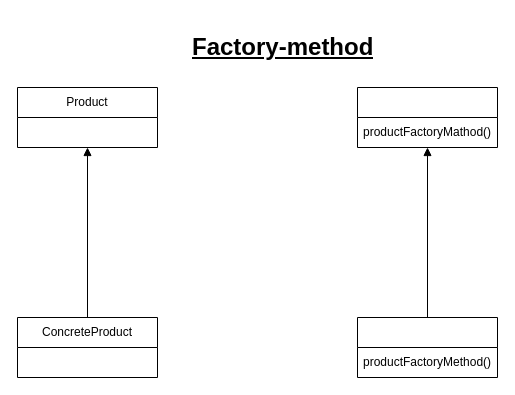
The diagram is 515 pixels wide and 395 high, and some of its shapes have lost their labels. The box of each missing label's shape, as (x1, y1, x2, y2) in pixels:
ConcreteCreator: (356, 316, 498, 378)
Creator: (356, 86, 498, 148)
